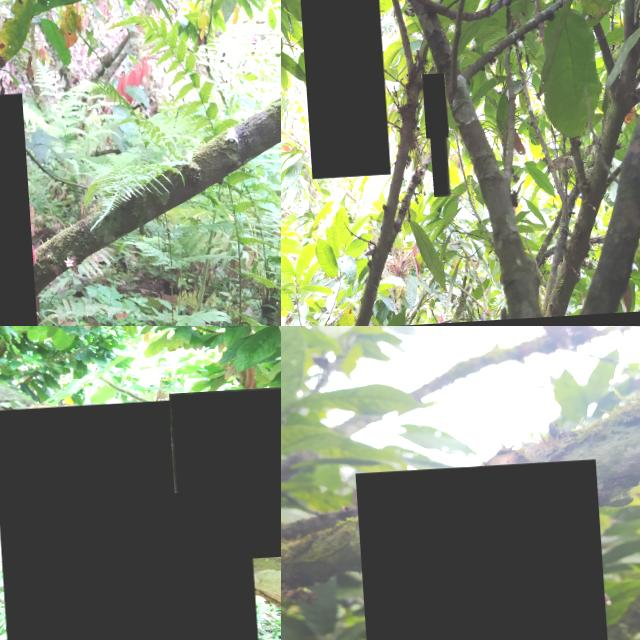Fitoftora: (0, 402, 261, 640), (293, 0, 383, 182), (424, 138, 443, 202)
Monilia: (352, 465, 613, 640), (166, 393, 281, 498)
Sana: (135, 423, 281, 569), (417, 78, 443, 143)
